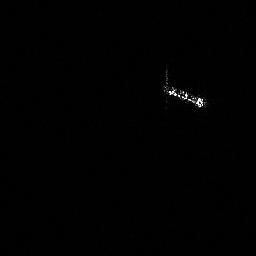ship: (161, 78, 209, 110)
